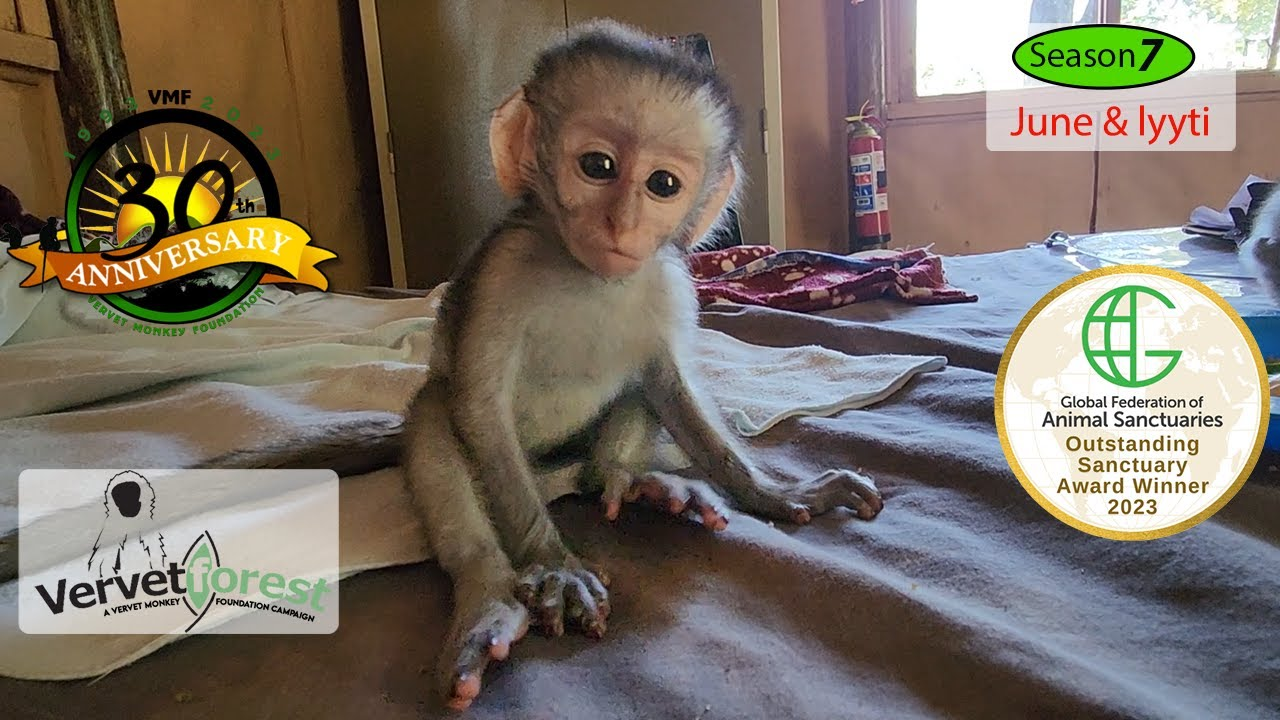monkey_body: (432, 191, 778, 614)
monkey_face: (483, 32, 757, 263)
